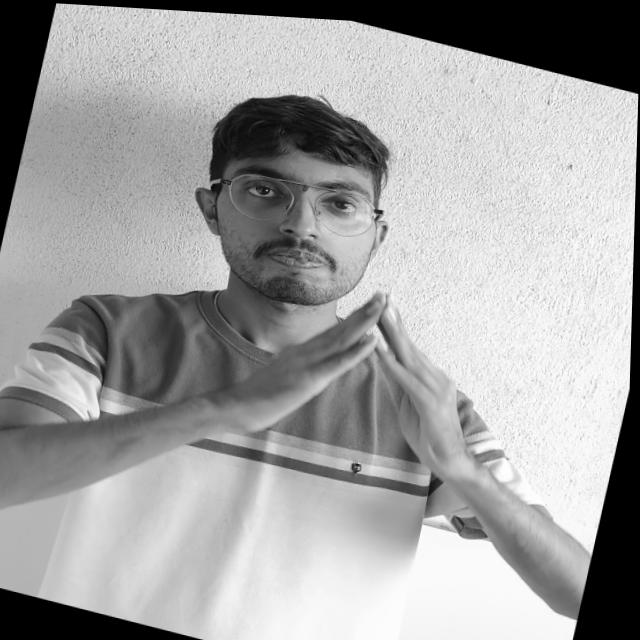Home: (198, 254, 519, 509)
